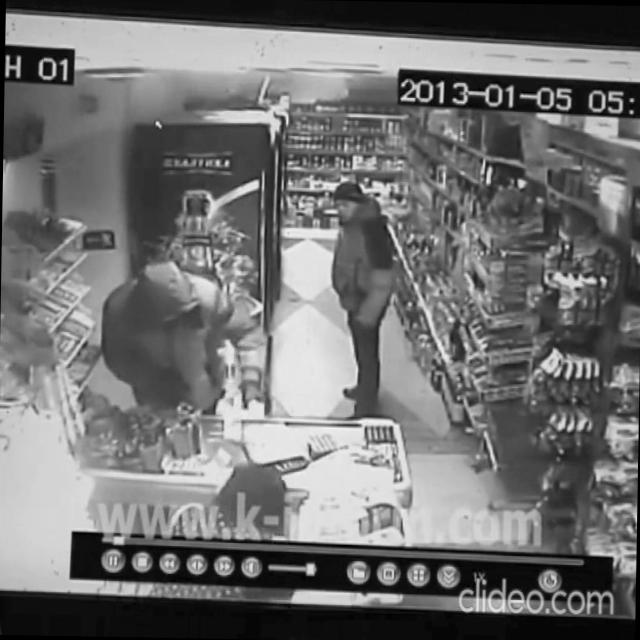gun: (161, 362, 192, 397)
person: (328, 180, 397, 418)
person with a gun: (100, 258, 268, 416)
